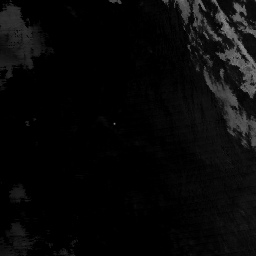Target: (112, 120, 117, 126)
